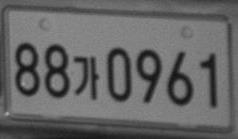0: (106, 47, 131, 102)
1: (197, 52, 224, 108)
6: (166, 51, 193, 106)
8: (13, 42, 40, 95), (44, 43, 69, 98)
9: (136, 48, 162, 103)
가: (73, 55, 100, 100)
